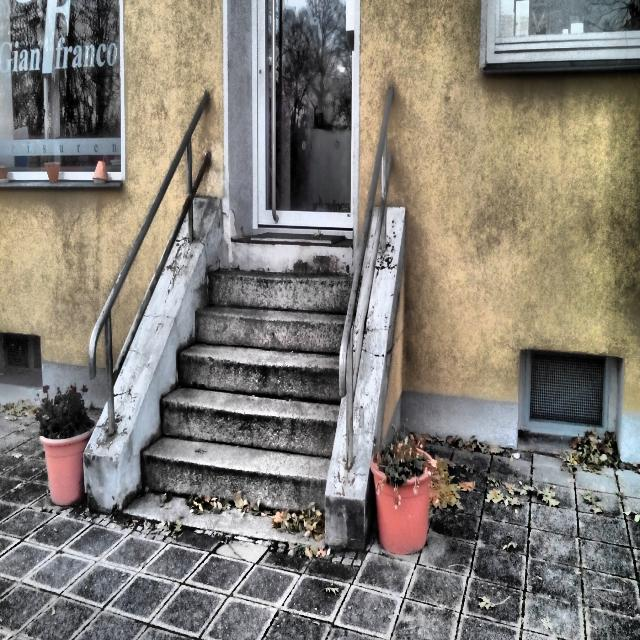escada: (122, 243, 351, 534)
